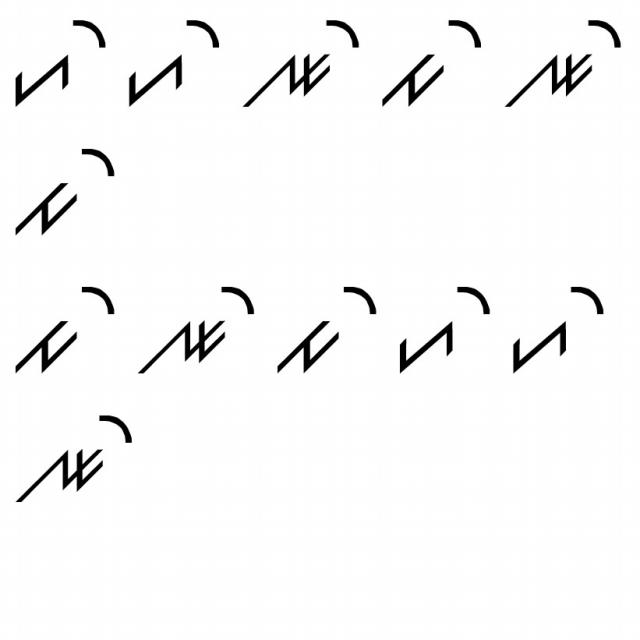hay: (5, 7, 114, 119), (504, 274, 611, 382), (385, 280, 497, 377), (118, 15, 220, 111)
mbay: (6, 138, 123, 246), (375, 13, 484, 116), (271, 280, 381, 380), (11, 280, 118, 376)
nday: (501, 13, 625, 126), (11, 406, 138, 508), (239, 11, 360, 111), (130, 284, 257, 378)
